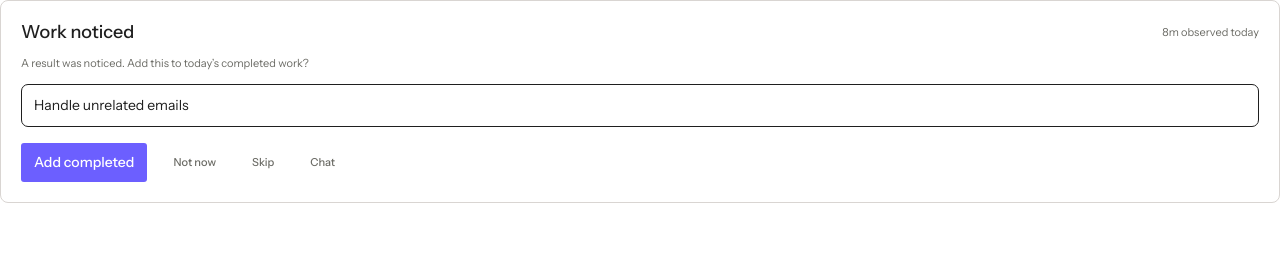
keeps the offer available when saving fails and never reports a completed goal
The width and height of the screenshot is (1280, 270).
Click the button "Add completed" at (84, 162), box 21,143 -> 147,182
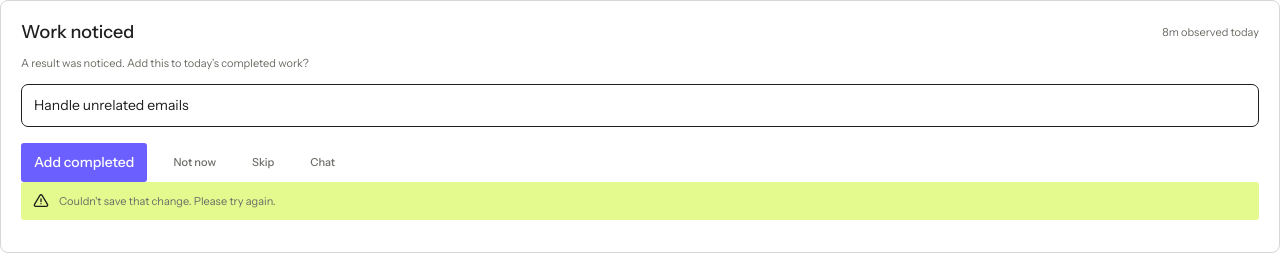
expect the field is shown: met, box 21,84 -> 1259,127
expect the message "Couldn't save that change. Please try again." is shown: met, box 21,182 -> 1259,220
